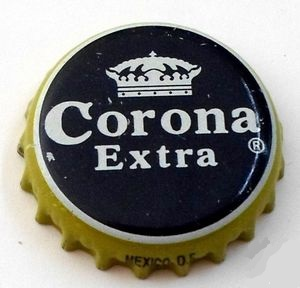corona: (14, 18, 287, 279)
